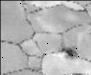good_void: (61, 45, 77, 59)
